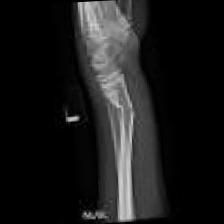greenstick-fracture: (72, 0, 168, 222)
